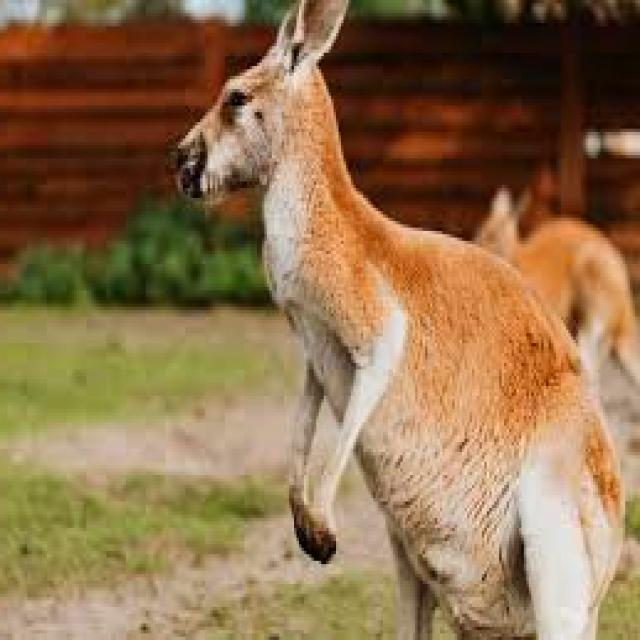kangaroo: (178, 0, 625, 637)
